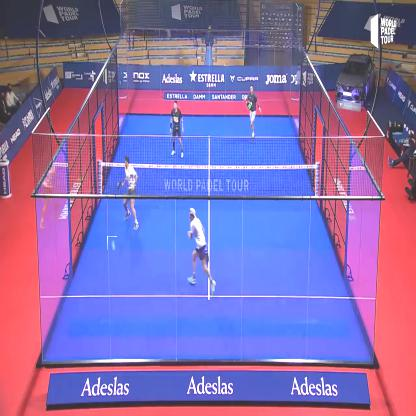ball: (107, 236, 118, 251)
